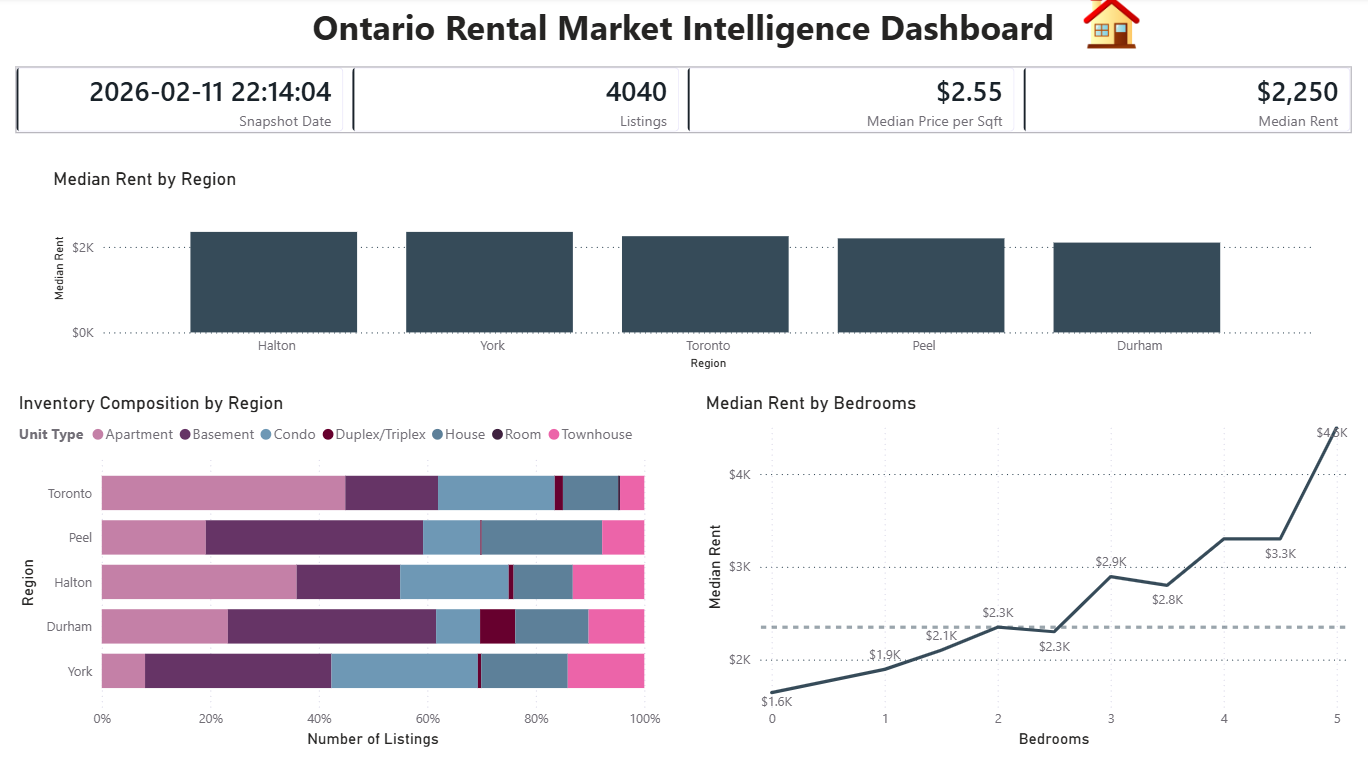

What the dashboard file says about the page in this screenshot:
{"tool":"powerbi","page":{"name":"Market Overview","canvas":[1280,720],"ordinal":0},"visuals":[{"type":"clusteredColumnChart","fields":{"Category":["kijiji_rentals_clean.Region"],"Y":["kijiji_rentals_clean.Median Rent"]},"box":[48,160,1184,192],"z":0},{"type":"cardVisual","fields":{"Data":["kijiji_rentals_clean.Snapshot Date","CountNonNull(kijiji_rentals_clean.Posting Title)","kijiji_rentals_clean.Median Price per Sqft","kijiji_rentals_clean.Median Rent"]},"box":[0,48,1280,96],"z":1000},{"type":"textbox","box":[288,0,704,64],"z":2000},{"type":"hundredPercentStackedBarChart","title":"Inventory Composition by Region","fields":{"Category":["kijiji_rentals_clean.Region"],"Y":["CountNonNull(kijiji_rentals_clean.Posting Title)"],"Series":["kijiji_rentals_clean.Unit Type"]},"box":[16,368,608,336],"z":3000},{"type":"lineChart","fields":{"Y":["kijiji_rentals_clean.Median Rent"],"Category":["kijiji_rentals_clean.Bedrooms"]},"box":[656,368,608,336],"z":4000},{"type":"image","box":[928,0,224,48],"z":5000}]}

Visuals, with their boxes in screenshot pixels (x1, y1, x2, y2), scaled from the page's 1280x720 canvas onto the 1368x769 screenshot:
clusteredColumnChart - kijiji_rentals_clean.Region x kijiji_rentals_clean.Median Rent: Rect(51, 171, 1317, 376)
cardVisual - kijiji_rentals_clean.Snapshot Date x CountNonNull(kijiji_rentals_clean.Posting Title): Rect(0, 51, 1367, 154)
textbox: Rect(308, 0, 1060, 68)
"Inventory Composition by Region" hundredPercentStackedBarChart: Rect(17, 393, 667, 752)
lineChart - kijiji_rentals_clean.Median Rent x kijiji_rentals_clean.Bedrooms: Rect(701, 393, 1351, 752)
image: Rect(992, 0, 1231, 51)
